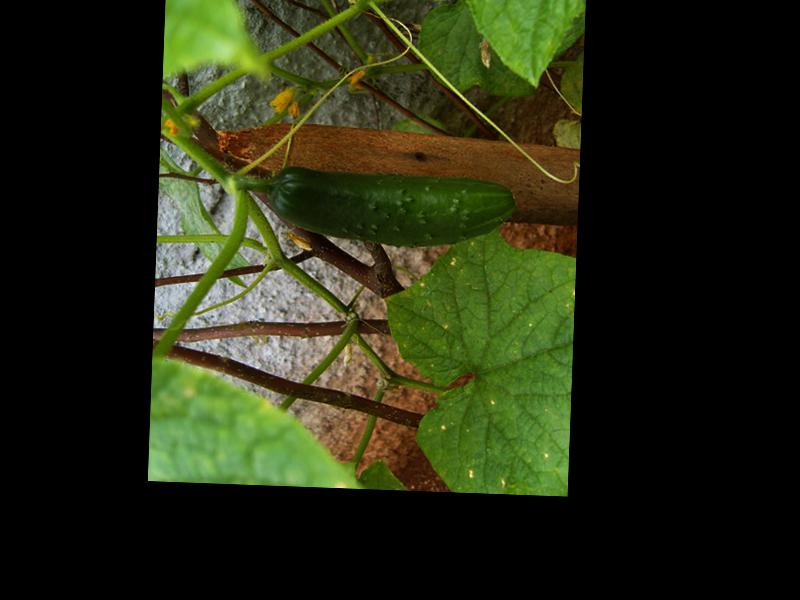Cucumber: (265, 164, 517, 251)
